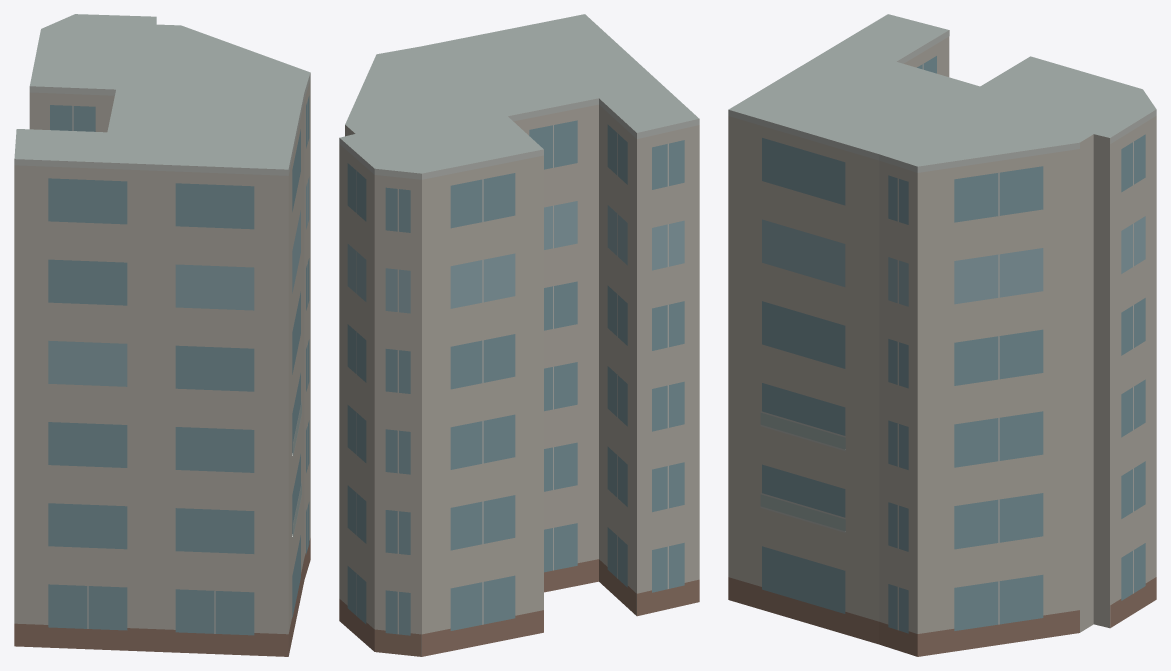
File: survey-upis-32866776.glb
3 renders of one model, left to right at view 1: azimuth 30°, elevation 25°; view 2: azimuth 150°, elevation 25°; view 3: azimuth 270°, elevation 25°, orthographic.
Parts seen in each view (by area): view 1: survey-upis-32866776.tmp; view 2: survey-upis-32866776.tmp; view 3: survey-upis-32866776.tmp.
Part boxes in pixels (x1,y1,x2,y2): survey-upis-32866776.tmp: (14,14,310,656); survey-upis-32866776.tmp: (339,14,699,656); survey-upis-32866776.tmp: (728,14,1156,656).
Bounding box in the file's own units: 12.7 × 19 × 15.05.
